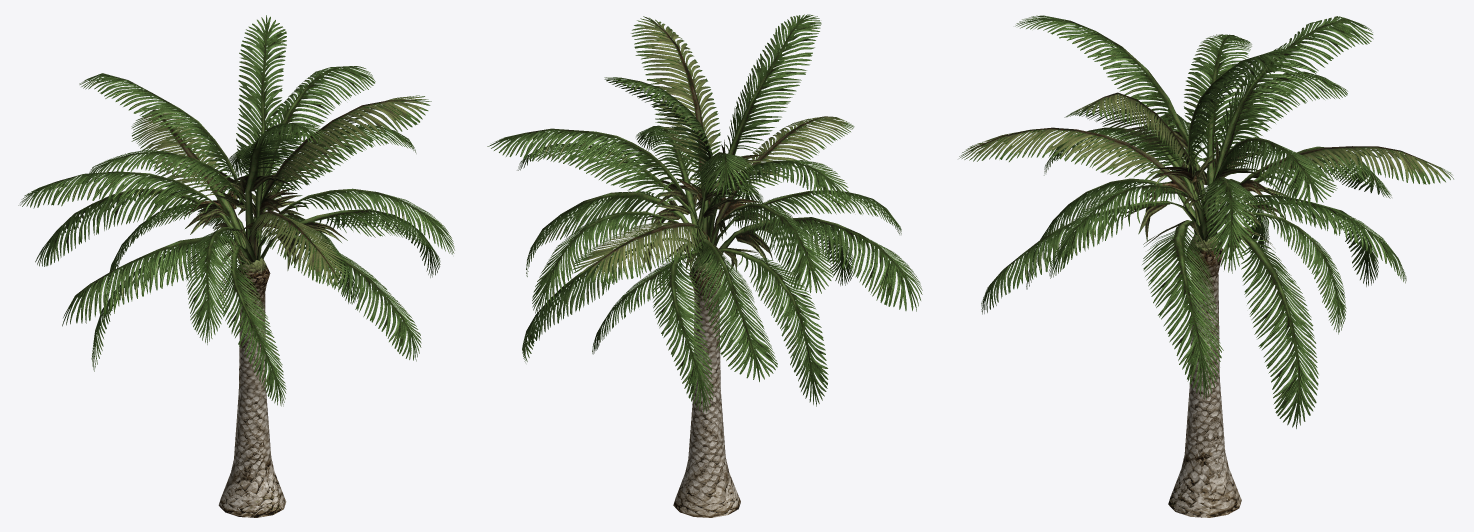
The model's file is Tree_DatePlam_Lod1.fbx.
3 renders of one model, left to right at view 1: azimuth 30°, elevation 25°; view 2: azimuth 150°, elevation 25°; view 3: azimuth 270°, elevation 25°, orthographic. The views are drawn at different scales.
Parts seen in each view (by area): view 1: Tree_DatePlam_Lod1; view 2: Tree_DatePlam_Lod1; view 3: Tree_DatePlam_Lod1.
Boxes of the visible parts, bbox=[...] form: Tree_DatePlam_Lod1: bbox=[18, 15, 454, 517]; Tree_DatePlam_Lod1: bbox=[487, 14, 922, 517]; Tree_DatePlam_Lod1: bbox=[959, 15, 1453, 517].
Bounding box in the file's own units: 909 × 1006 × 956.
Materials: 2 (2 with a texture image).
